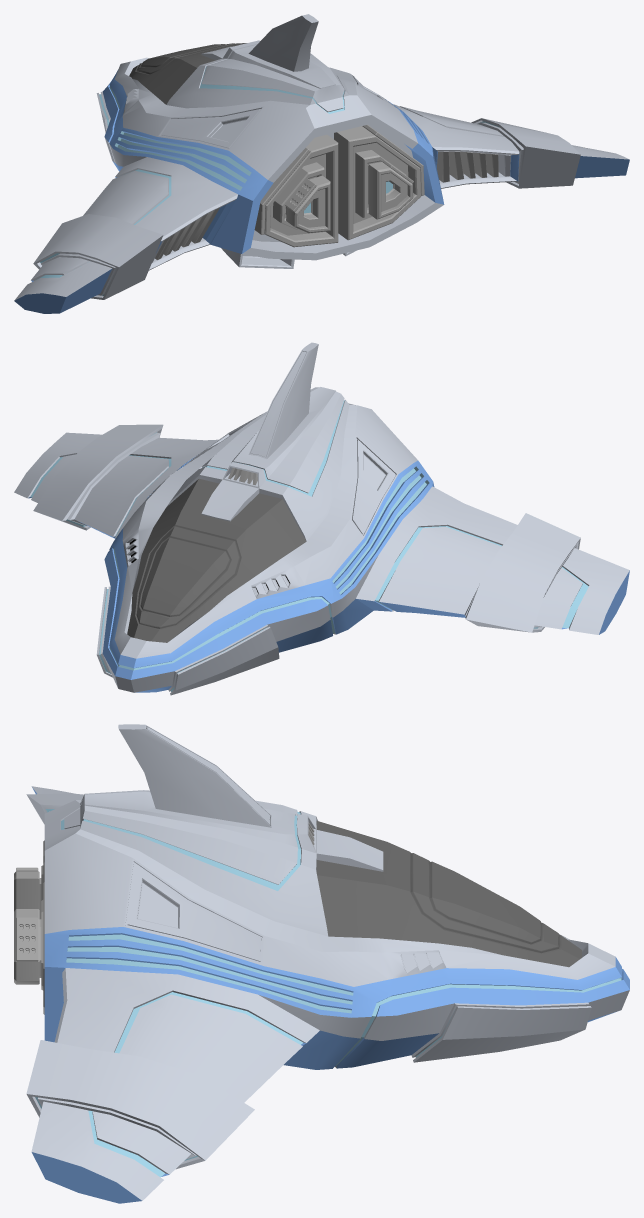
Rendered from Spaceship.fbx.
The picture shows the model from 3 angles, top to bottom: view 1: azimuth 30°, elevation 25°; view 2: azimuth 150°, elevation 25°; view 3: azimuth 270°, elevation 25°; orthographic projection. The views are drawn at different scales.
Parts seen in each view (by area): view 1: Spaceship; view 2: Spaceship; view 3: Spaceship.
Part boxes in pixels (left/top/right/bottom): Spaceship: left=14, top=14, right=629, bottom=313; Spaceship: left=14, top=342, right=629, bottom=695; Spaceship: left=14, top=724, right=629, bottom=1203.
Size of the model in its own units: 1066 by 414 by 731.
